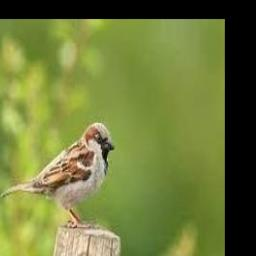Sparrow: (1, 122, 115, 227)
